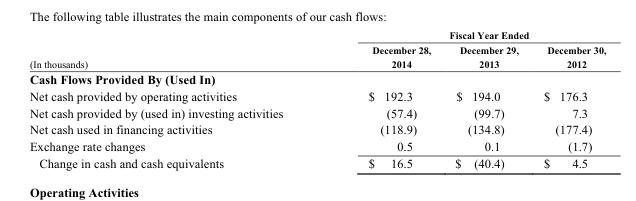table: (28, 28, 605, 169)
table column: (28, 28, 325, 169), (325, 28, 442, 169), (442, 28, 530, 169), (530, 28, 605, 169)
table column header: (28, 28, 605, 70)
table projected row header: (28, 70, 605, 87)
table row: (28, 42, 605, 70), (28, 70, 605, 87), (28, 87, 605, 104), (28, 120, 605, 137), (28, 137, 605, 154), (28, 104, 605, 120), (28, 154, 605, 169), (28, 28, 605, 42)
table spanning cell: (28, 28, 325, 70), (325, 28, 605, 42)
